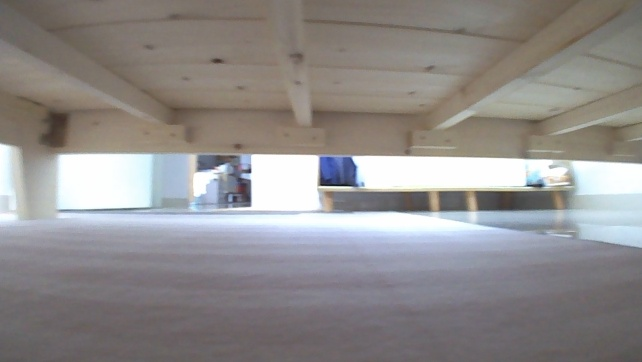blanket: (0, 205, 641, 361)
